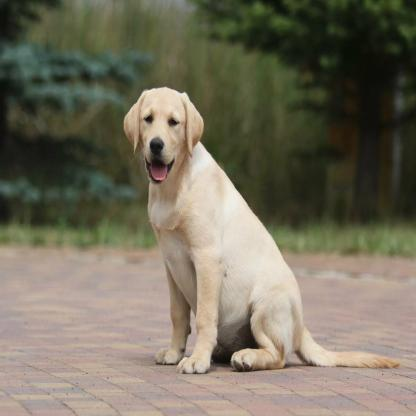Rotveler: (121, 85, 403, 379)
